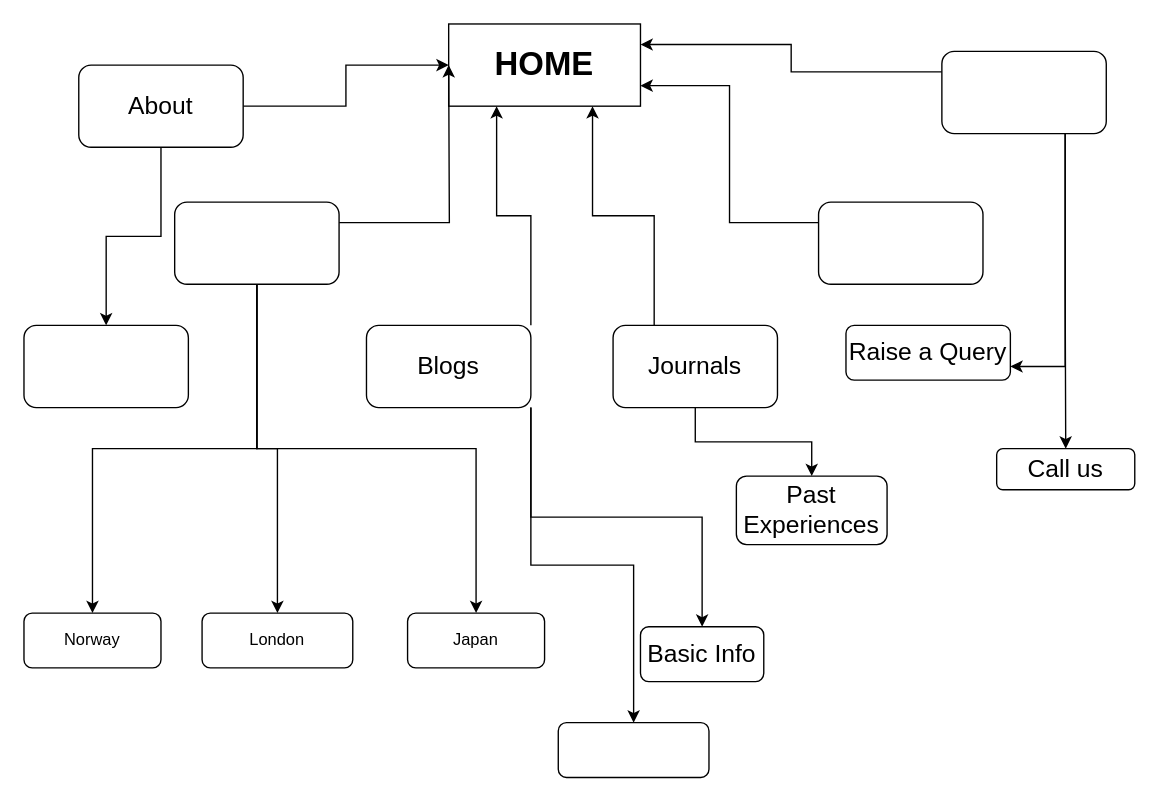
This 1159x801 diagram has some shape labels left out. The centre of each missing label's shape, as x and y in pixels:
"Basic about Us" goes at [105,366].
"Contact" goes at [1023,92].
"Discover" goes at [256,242].
"Gallery" goes at [900,242].
"Latest" goes at [633,749].
